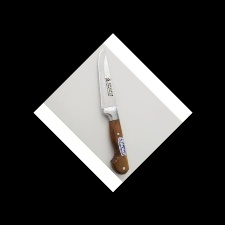k1: (94, 47, 121, 117)
